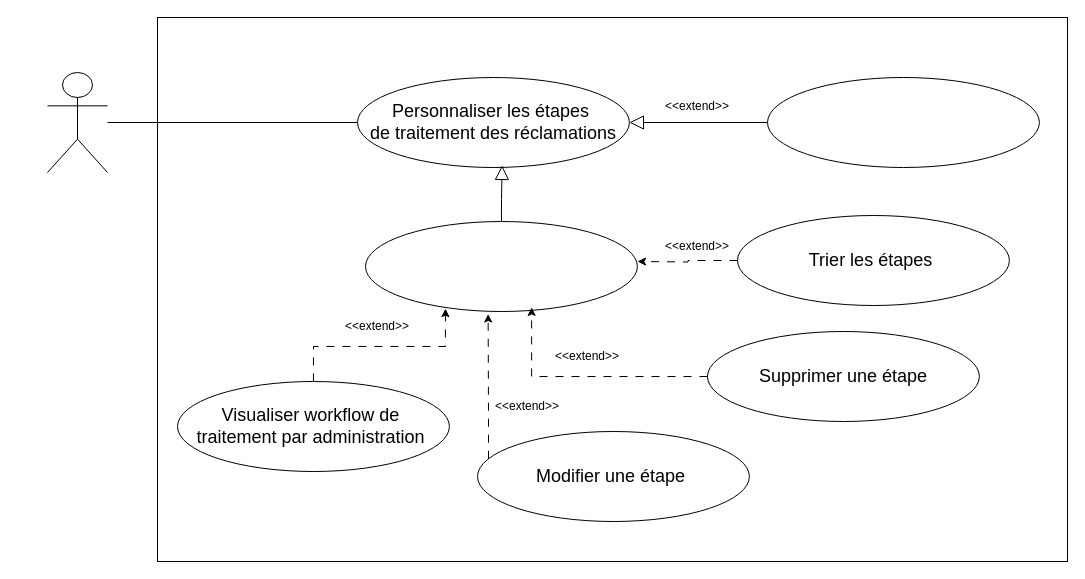
Image size: 1085x579. Some labels were removed from this diagram. The box of each missing label's shape, as (x1, y1, x2, y2) in pixels:
Administrateur système: (46, 72, 108, 172)
Ajouter une nouvelle étape de traitement: (766, 76, 1039, 168)
Consulter les étapes de traitement des réclamations: (364, 220, 637, 312)
